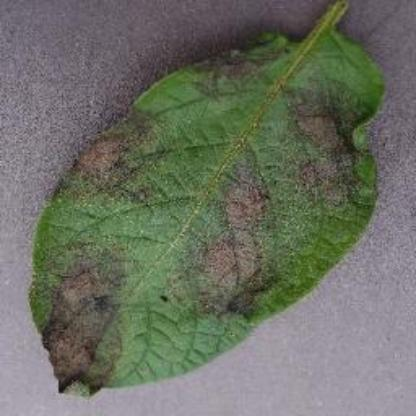Late-Blight: (7, 3, 412, 412)
